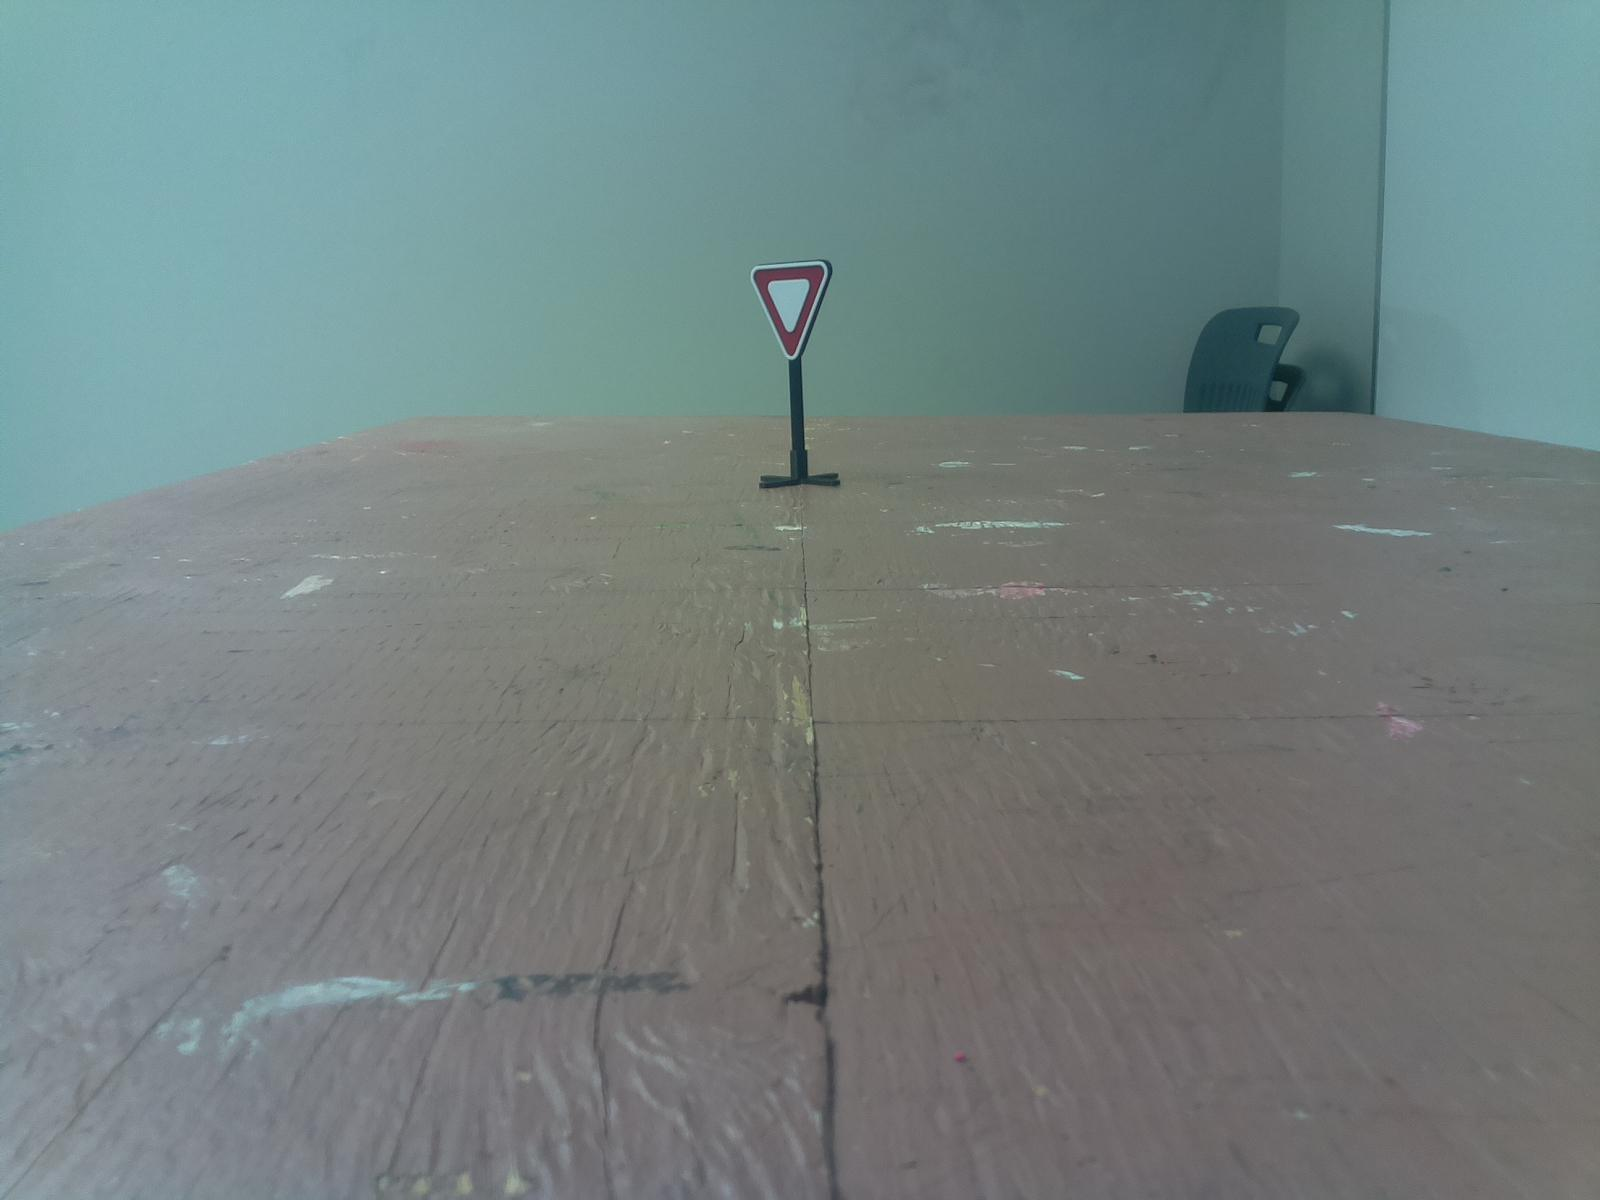sign_yield: (734, 255, 850, 367)
